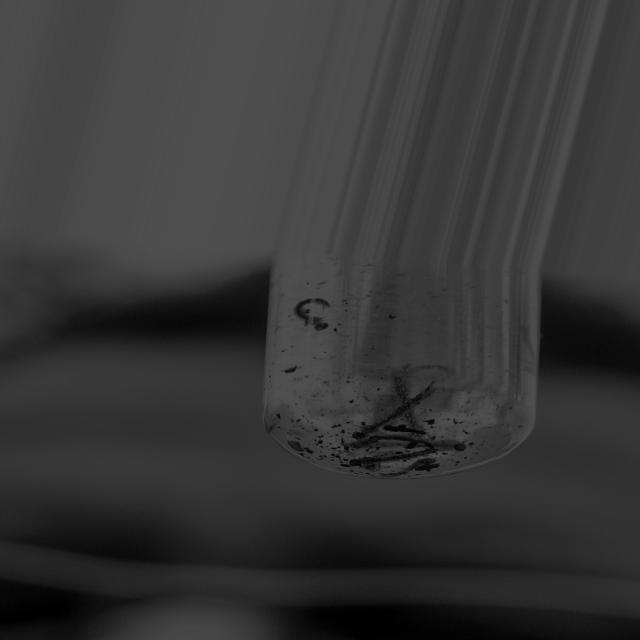larvas: (353, 374, 435, 443), (352, 452, 431, 467), (296, 297, 329, 330), (399, 458, 443, 478), (375, 434, 435, 447), (412, 360, 450, 376), (437, 436, 467, 452), (396, 370, 409, 400), (387, 424, 424, 434)
